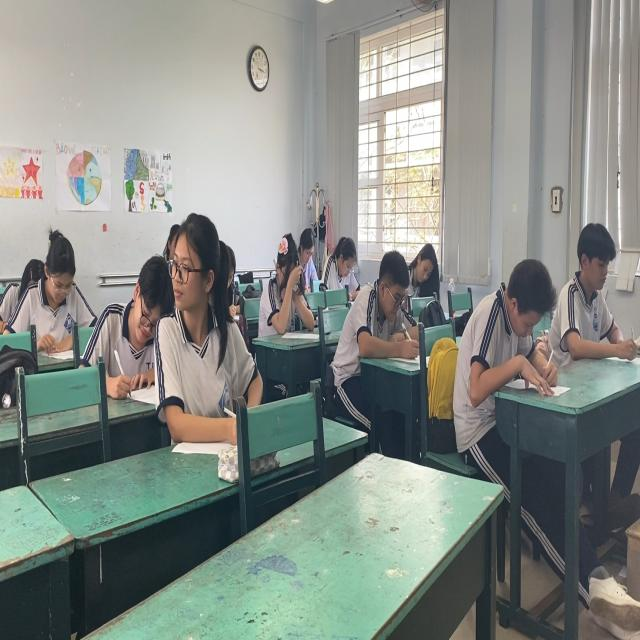cheating: (163, 205, 243, 406)
not_cheating: (466, 254, 556, 375), (562, 212, 632, 364), (106, 240, 170, 388), (15, 229, 91, 337), (354, 247, 410, 344), (264, 226, 310, 340), (314, 220, 364, 298), (406, 230, 443, 306)
